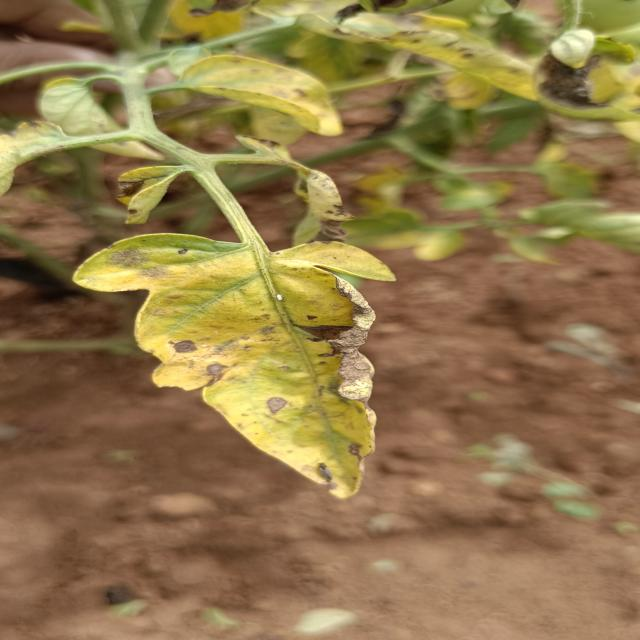tomato_early blight: (72, 233, 392, 498), (298, 11, 538, 99), (177, 54, 340, 135)
